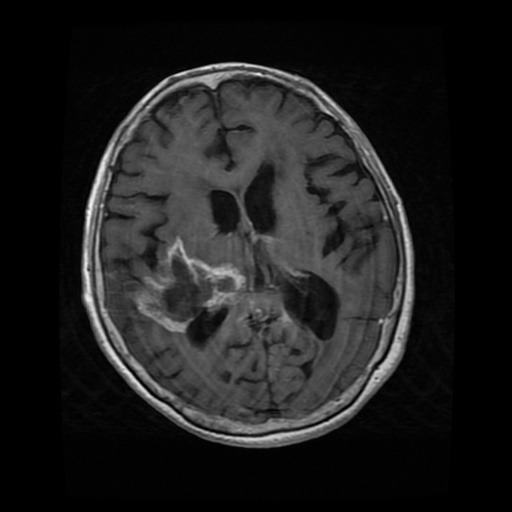glioma: (129, 235, 256, 331)
